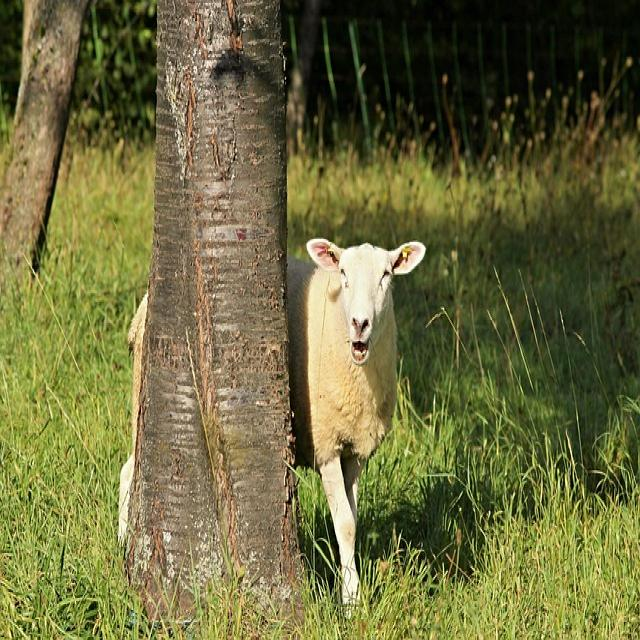goat: (289, 239, 427, 608)
